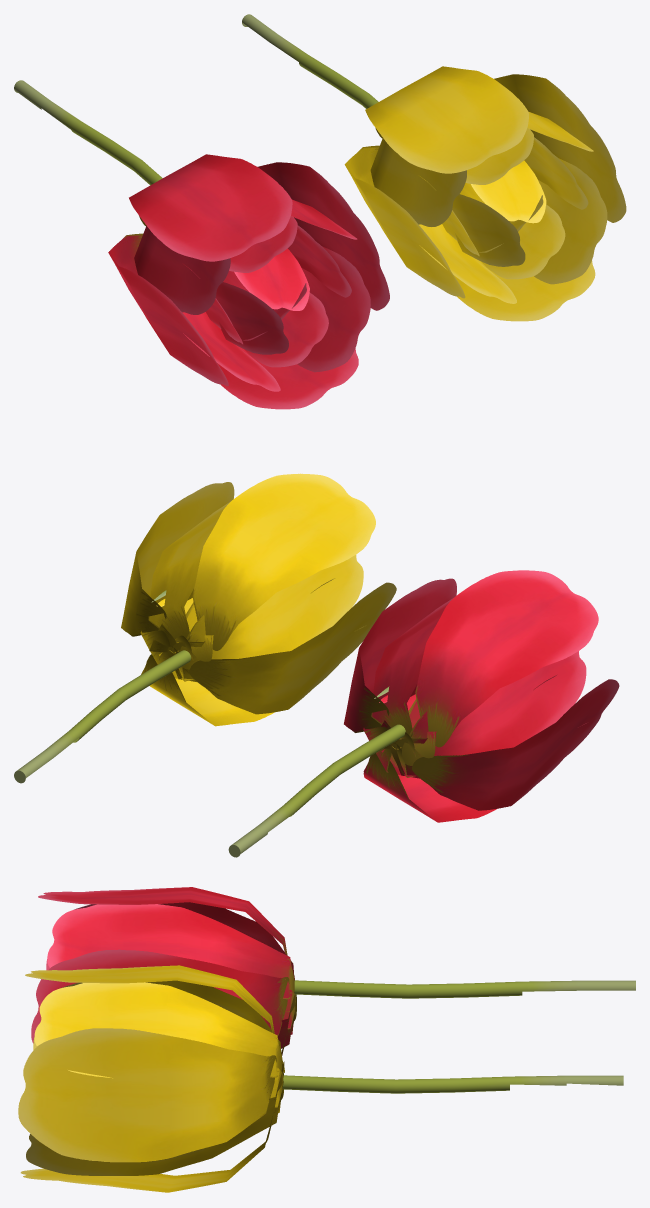
Rendered from flower.glb.
3 renders of one model, top to bottom at view 1: azimuth 30°, elevation 25°; view 2: azimuth 150°, elevation 25°; view 3: azimuth 270°, elevation 25°, orthographic. The views are drawn at different scales.
Parts seen in each view (by area): view 1: petal, leaves, stem; view 2: leaves, petal, stem; view 3: petal, leaves, stem.
Part boxes in pixels (left/top/right/bottom): petal: left=344, top=66, right=626, bottom=321; leaves: left=108, top=154, right=389, bottom=409; stem: left=14, top=14, right=378, bottom=185; leaves: left=344, top=570, right=619, bottom=822; petal: left=121, top=473, right=396, bottom=726; stem: left=14, top=650, right=405, bottom=857; petal: left=18, top=965, right=284, bottom=1192; leaves: left=31, top=887, right=296, bottom=1055; stem: left=282, top=980, right=635, bottom=1093.
Bounding box in the file's own units: 30.06 × 15.96 × 35.69.
3 materials, 3 textured.
